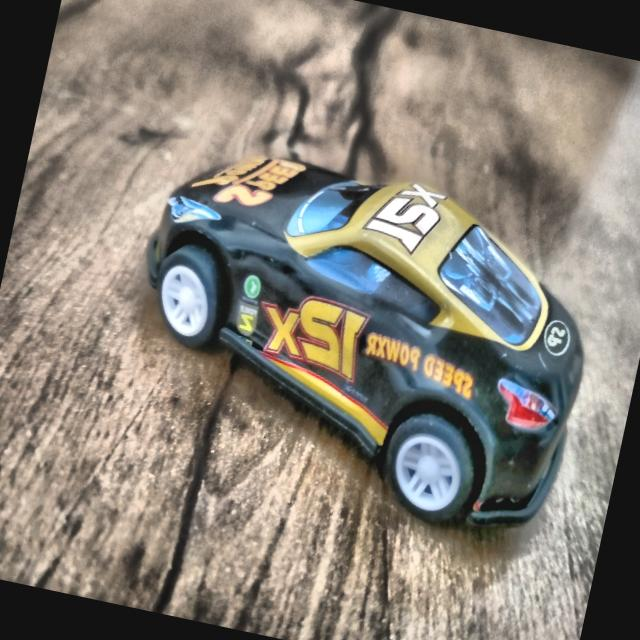Car: (105, 123, 633, 551)
